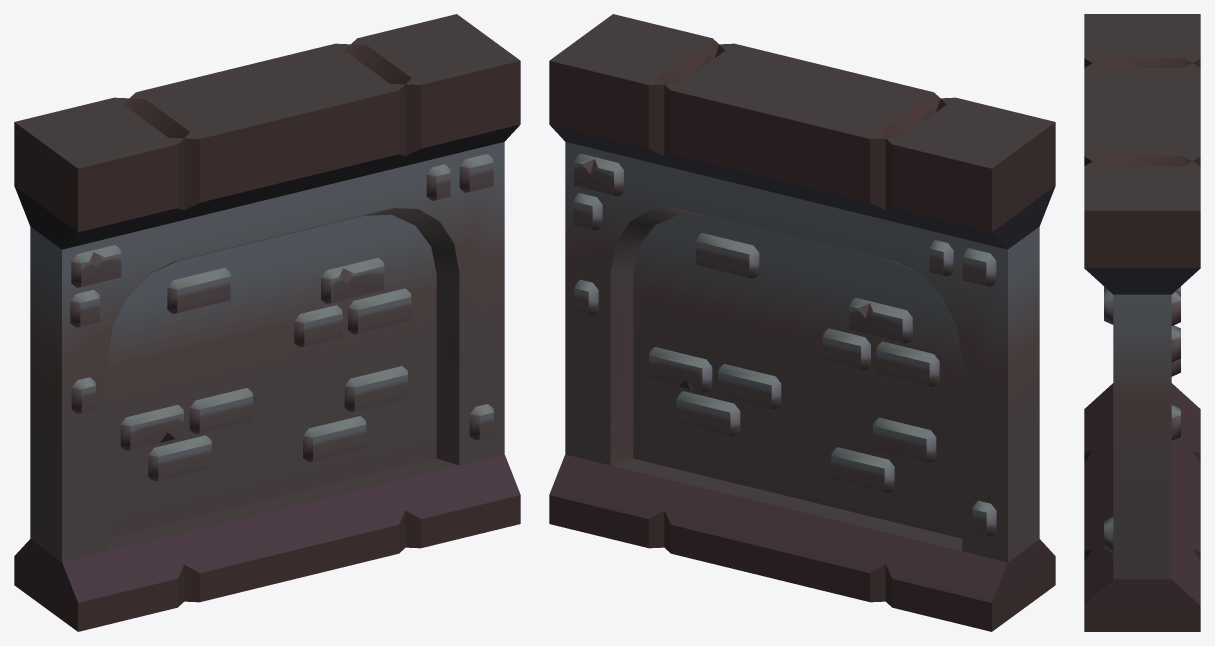
The model's file is wall-arch.glb.
The picture shows the model from 3 angles, left to right: view 1: azimuth 30°, elevation 25°; view 2: azimuth 150°, elevation 25°; view 3: azimuth 270°, elevation 25°; orthographic projection. The views are drawn at different scales.
Parts seen in each view (by area): view 1: wall-arch; view 2: wall-arch; view 3: wall-arch.
Part boxes in pixels (box(x1,y1,x2,y2)): wall-arch: box(14, 14, 520, 631); wall-arch: box(549, 14, 1055, 631); wall-arch: box(1084, 14, 1200, 631).
Size of the model in its own units: 4 by 4 by 1.
1 material, 1 textured.
